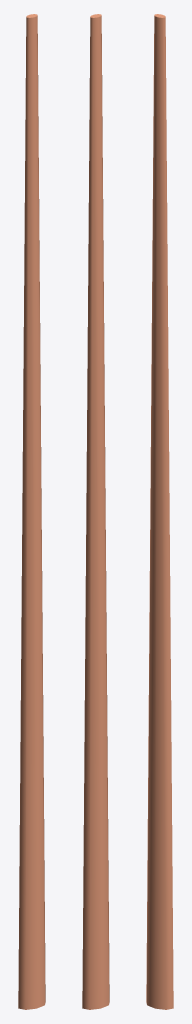
File: chopstick_004.glb
The picture shows the model from 3 angles, left to right: view 1: azimuth 30°, elevation 25°; view 2: azimuth 210°, elevation 25°; view 3: azimuth 330°, elevation 25°; orthographic projection.
Visible parts, largest first — view 1: chopstick.004; view 2: chopstick.004; view 3: chopstick.004.
Part boxes in pixels (bbox=[...]): chopstick.004: bbox=[18, 14, 45, 1009]; chopstick.004: bbox=[82, 14, 109, 1009]; chopstick.004: bbox=[146, 14, 173, 1009].
Size of the model in its own units: 0.1591 by 5.51 by 0.0955.
1 material, 1 textured.
